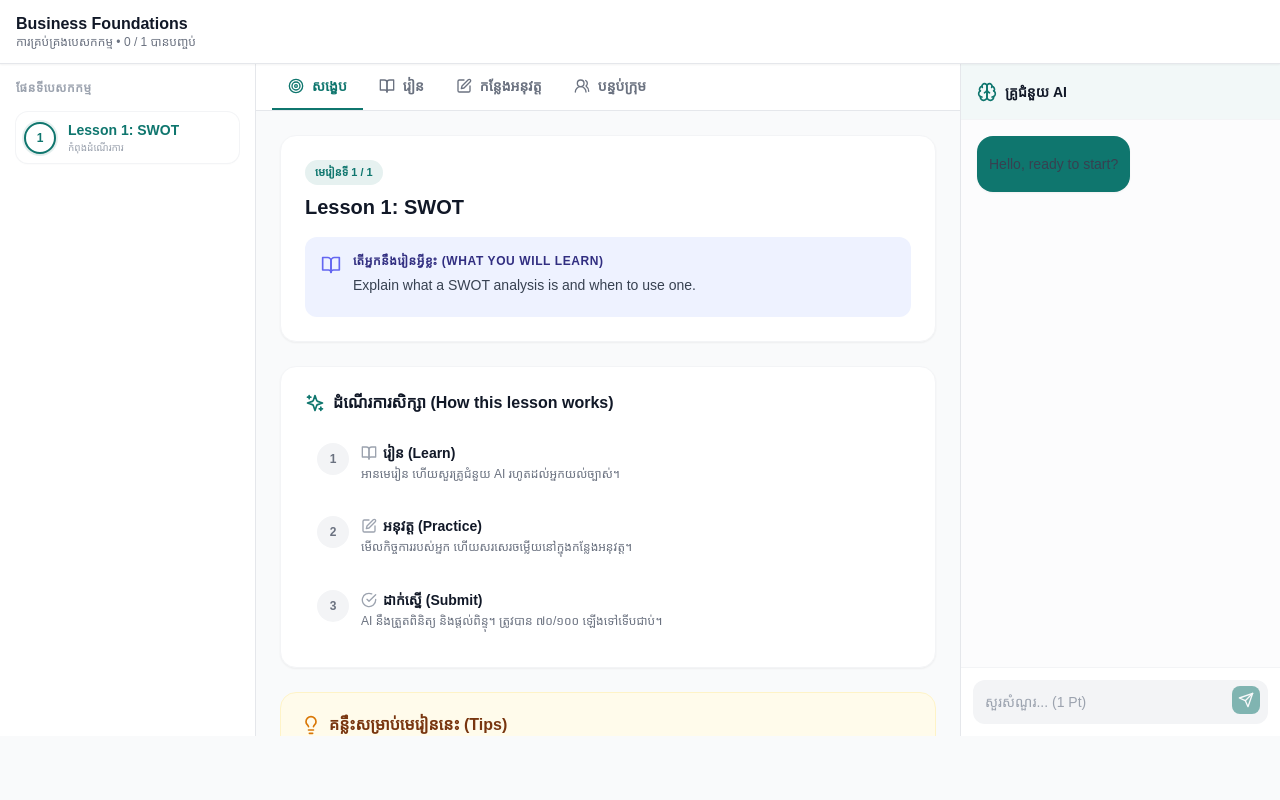
MissionWorkspace tab layout › lets the student collapse the task card to free up typing room
The image size is (1280, 800).
Click the button "កន្លែងអនុវត្ត".
click(499, 87)  # box [440,64,558,110]
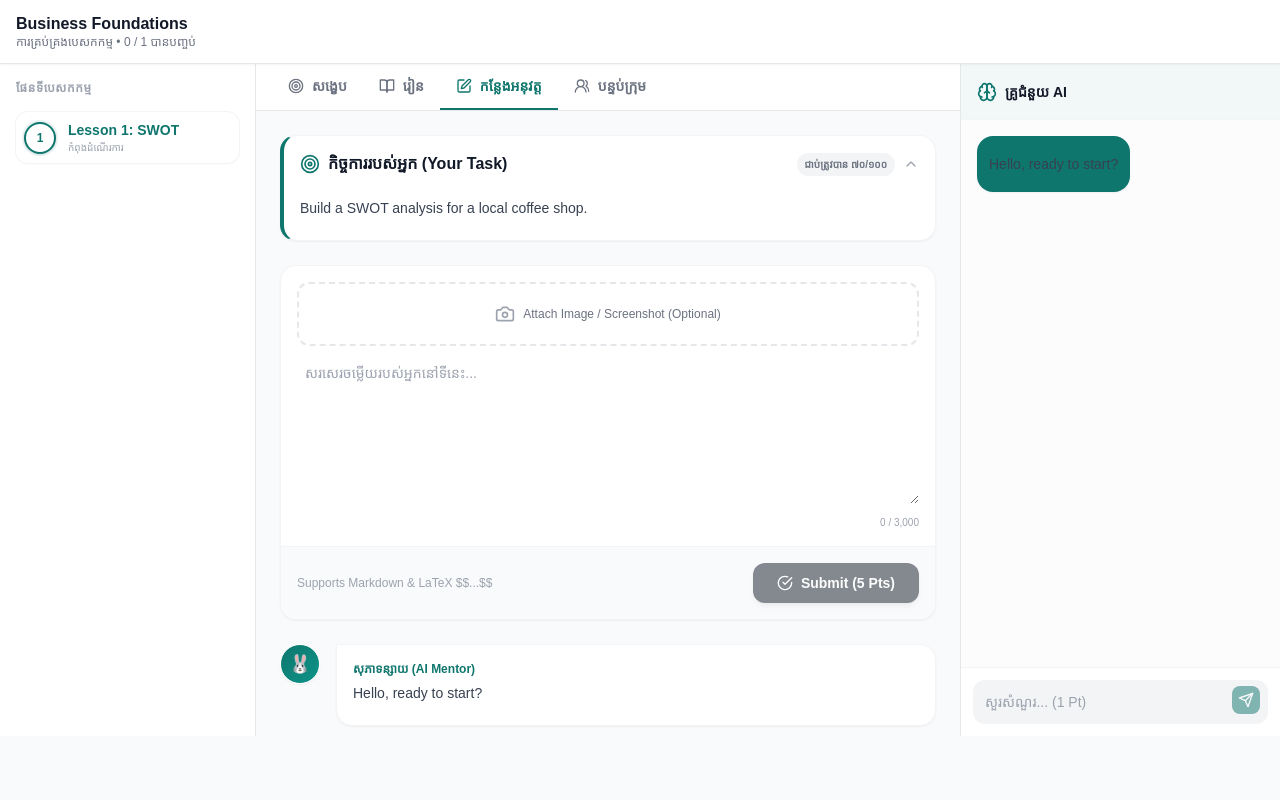
Result: the text "Build a SWOT analysis for a local coffee shop." is shown at [300,200,587,216]
Click the button "កិច្ចការរបស់អ្នក (Your Task) ជាប់ត្រូវបាន ៧០/១០០".
click(418, 164)  # box [284,136,935,192]
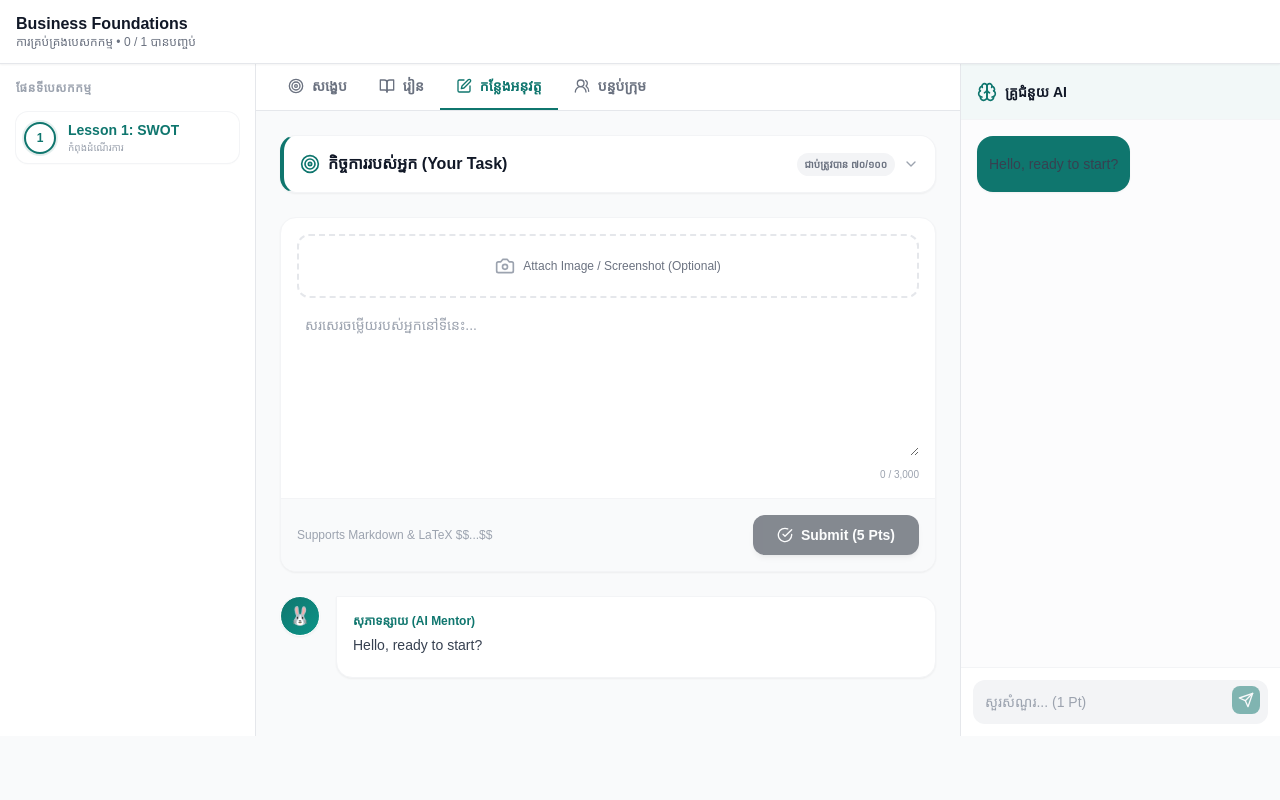
Result: the button "កិច្ចការរបស់អ្នក (Your Task) ជាប់ត្រូវបាន ៧០/១០០" is collapsed at [284,136,935,192]
Result: the text "Build a SWOT analysis for a local coffee shop." is gone
